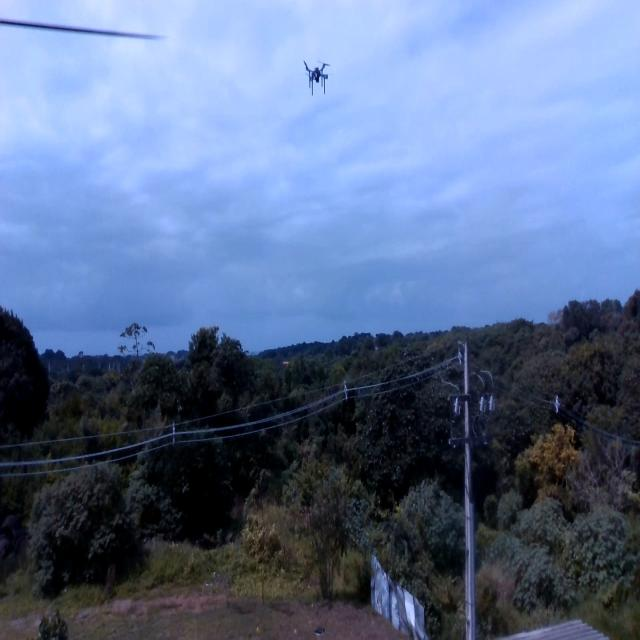-uav-: (299, 46, 334, 104)
